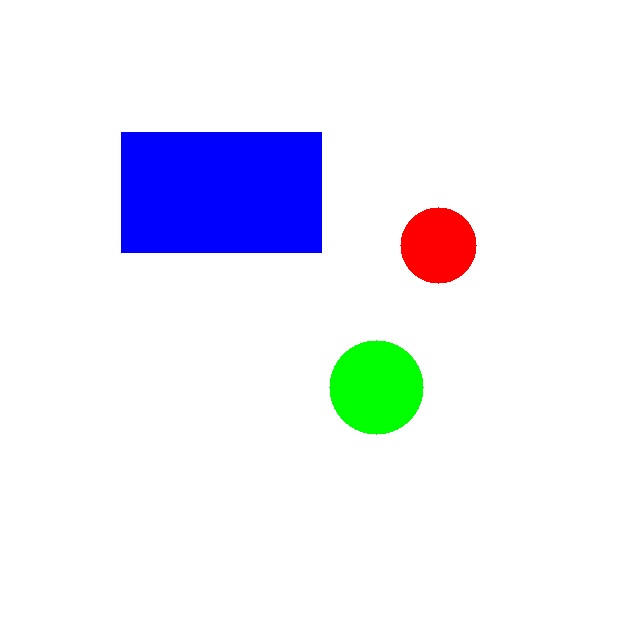cartao: (121, 132, 321, 252)
rosca_externa: (329, 340, 423, 434)
rosca_interna: (400, 207, 476, 283)
